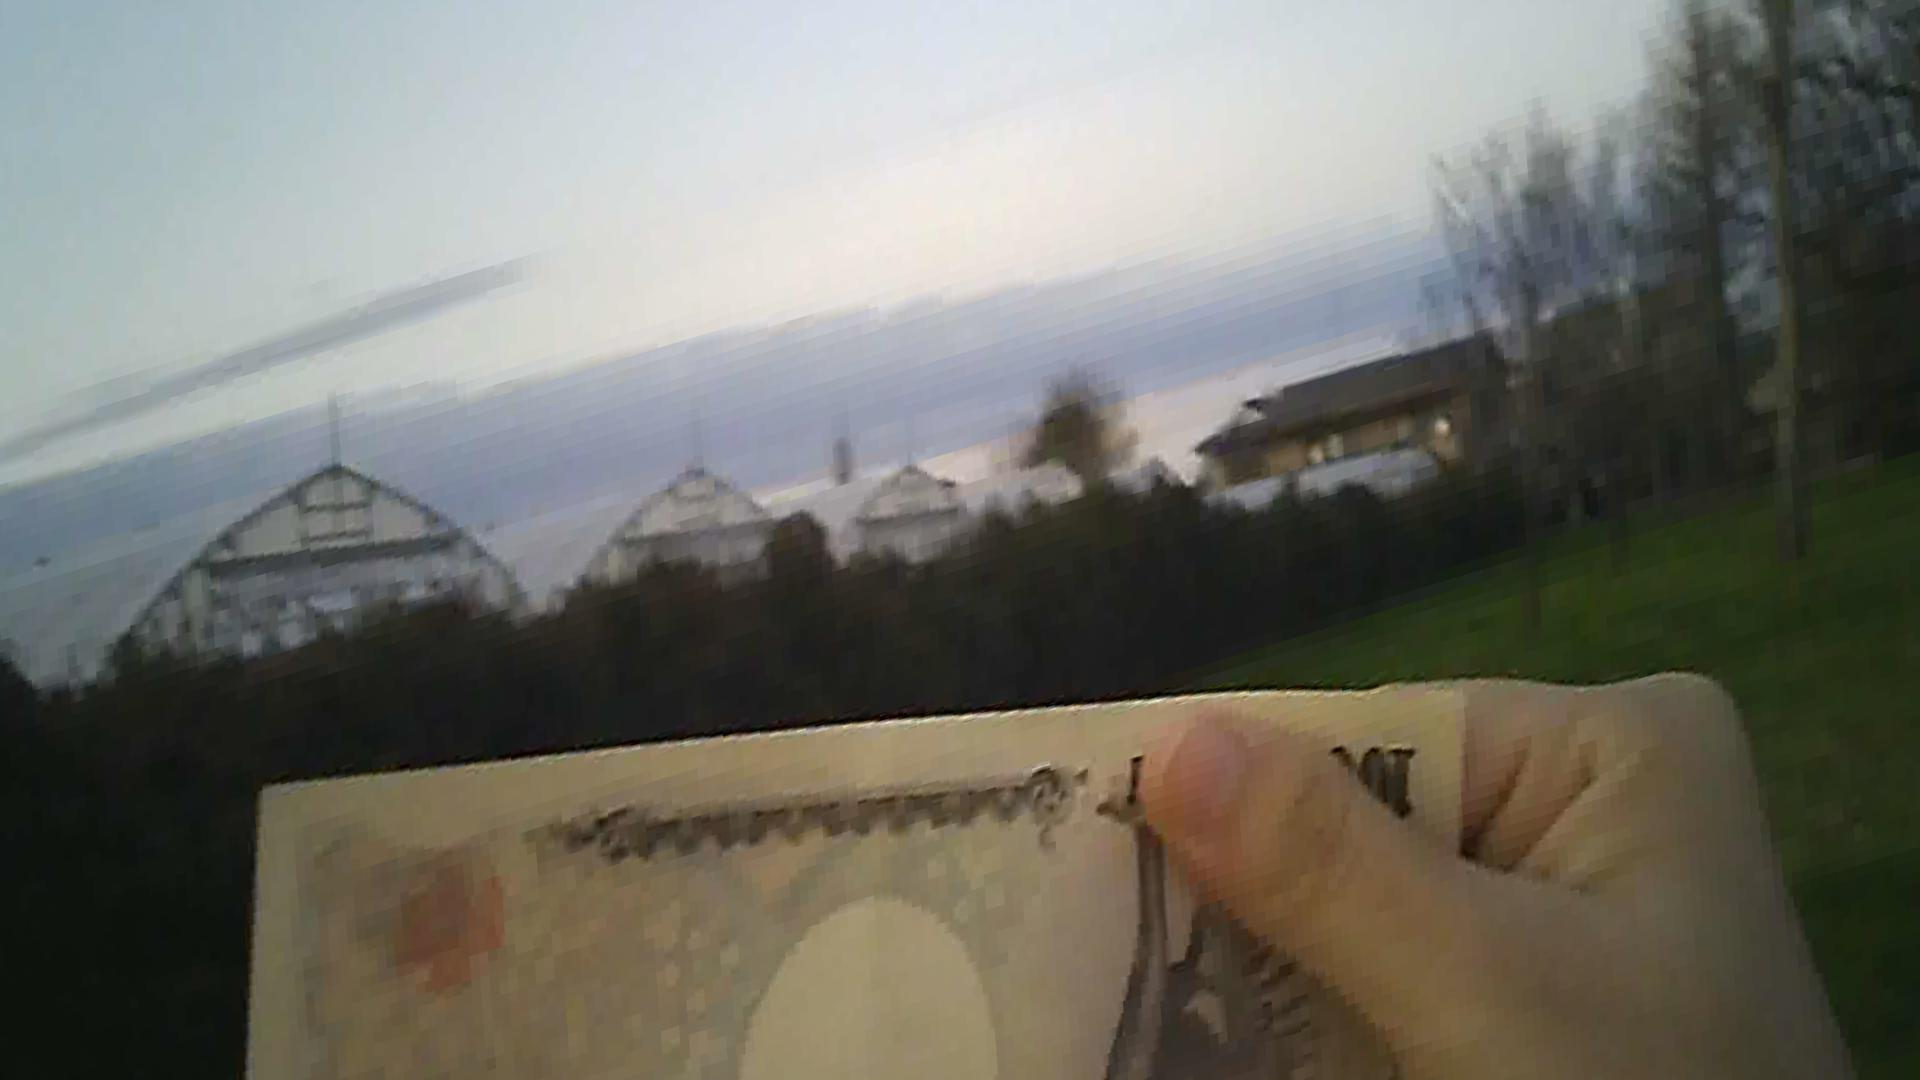10,000 Yen: (232, 698, 1487, 1051)
